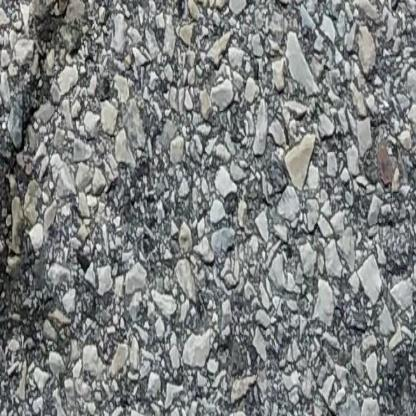Cracks: (0, 0, 94, 340)
